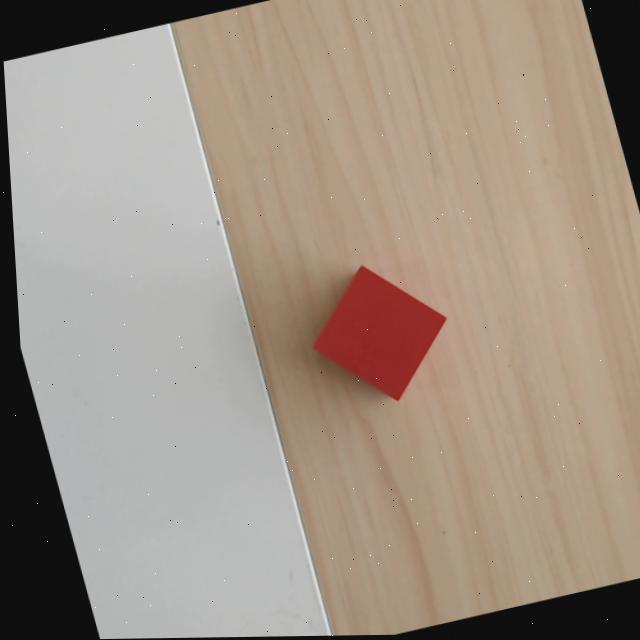Kubus-Merah-505050: (309, 264, 448, 401)
